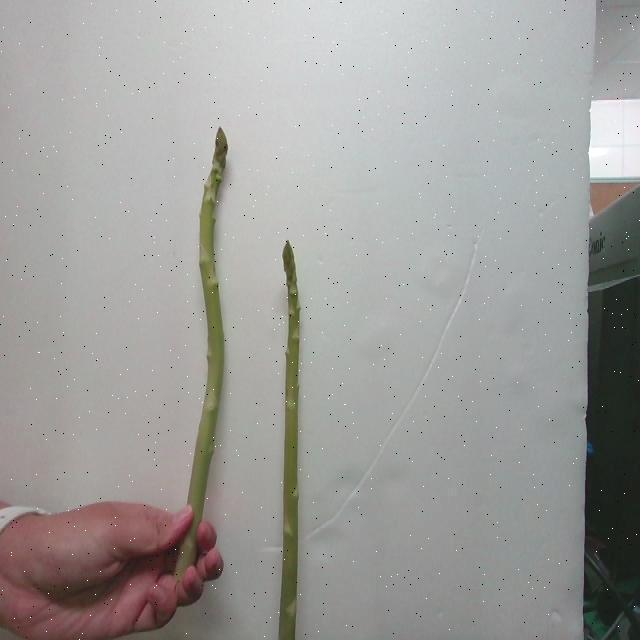aspargus: (188, 130, 229, 527), (275, 243, 301, 640)
